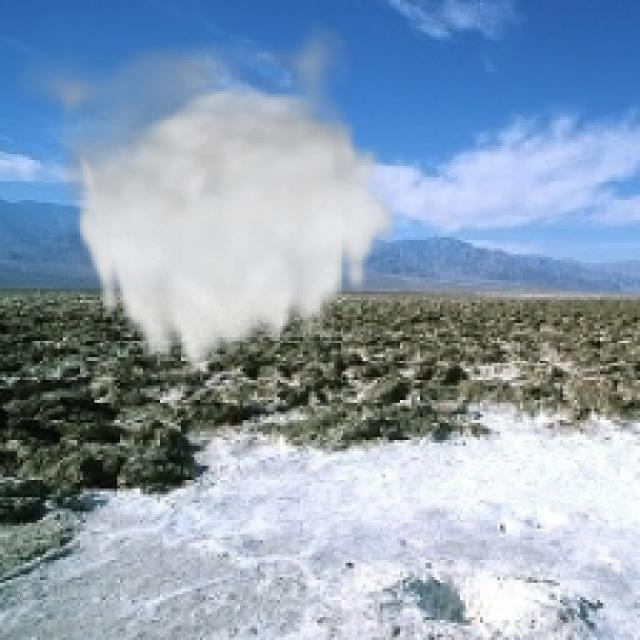smoke: (6, 14, 400, 386)
